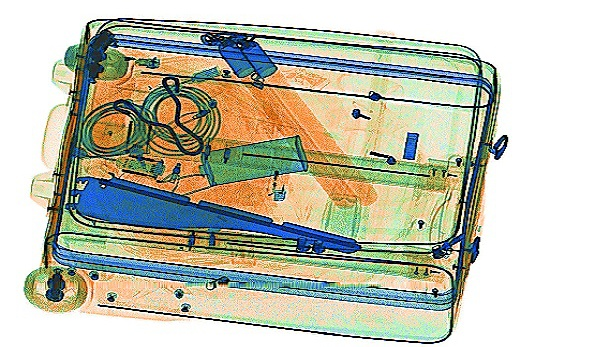lighter: (265, 141, 295, 203)
zippooil: (197, 133, 309, 186)
